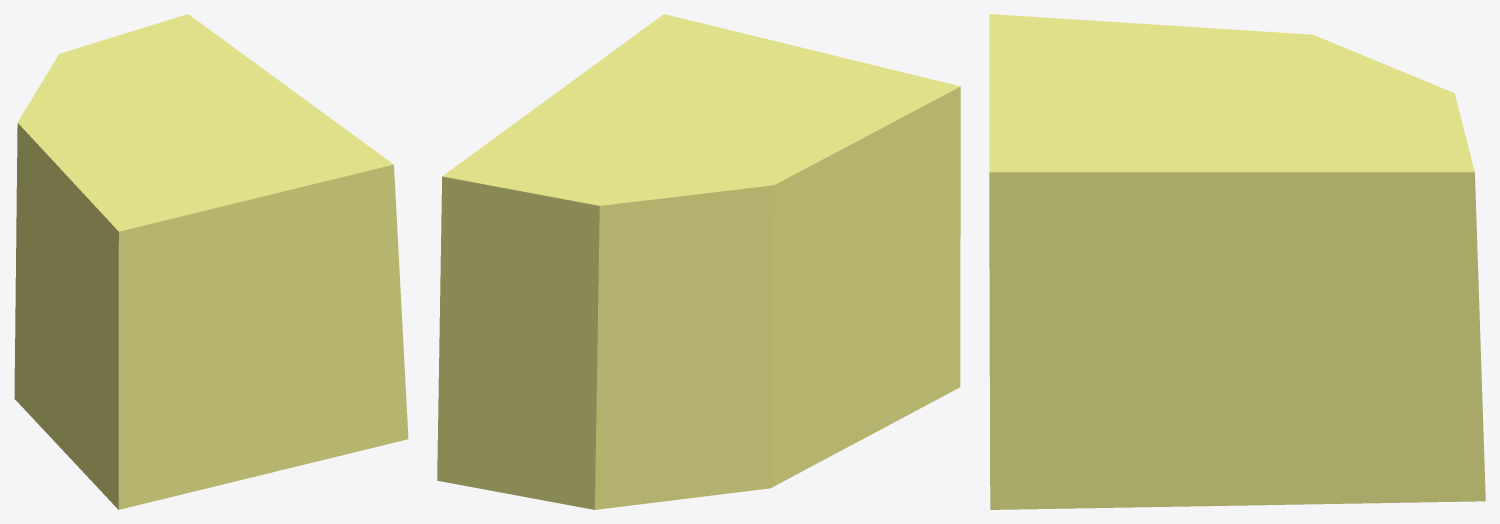
The model's file is banana_slice_3.glb.
3 renders of one model, left to right at view 1: azimuth 30°, elevation 25°; view 2: azimuth 150°, elevation 25°; view 3: azimuth 270°, elevation 25°, orthographic. The views are drawn at different scales.
Parts seen in each view (by area): view 1: Banana.004; view 2: Banana.004; view 3: Banana.004.
Boxes of the visible parts, x1,y1,x2,y2 form: Banana.004: [14, 14, 408, 509]; Banana.004: [437, 14, 960, 509]; Banana.004: [989, 14, 1485, 509].
Bounding box in the file's own units: 1.01 × 0.9277 × 1.27.
